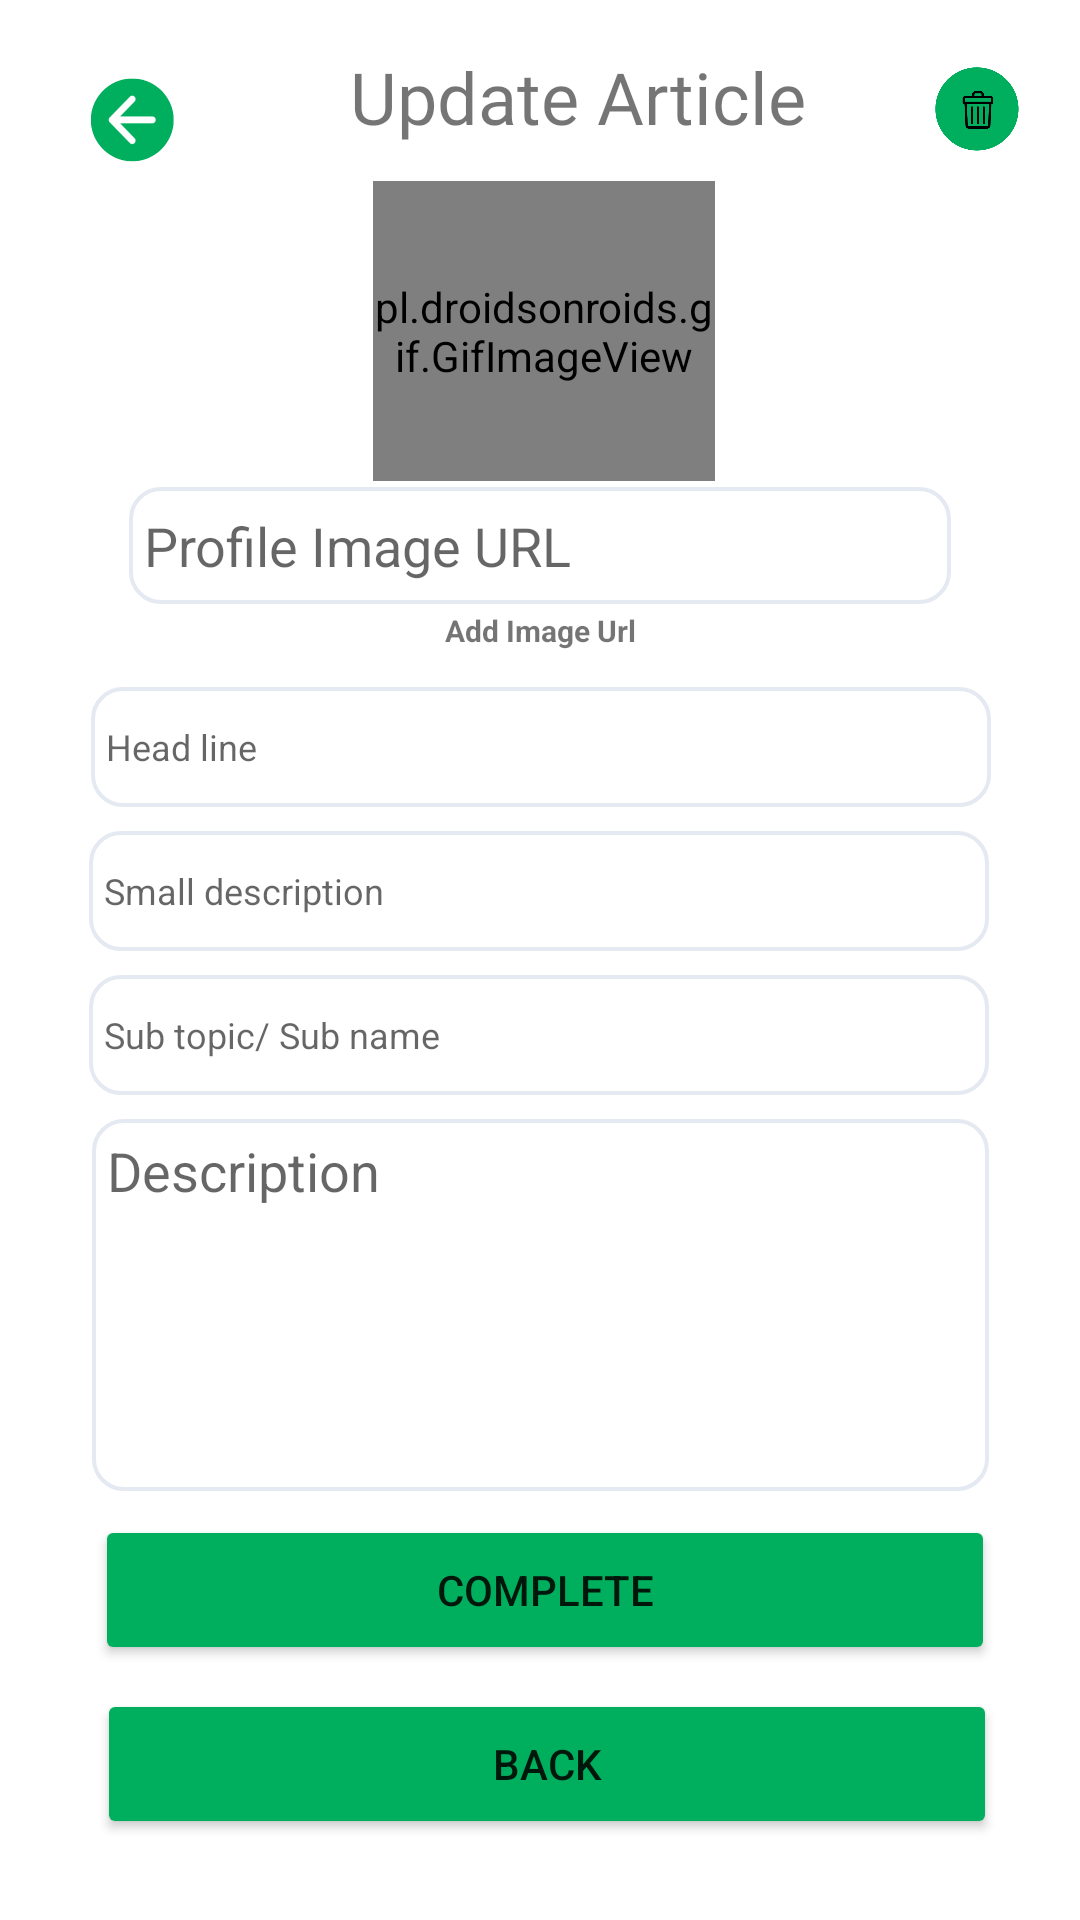

Icons on this 1080*1920 Android screen, each with the point to tap as (x,y):
backbttn: (132,120)
deletebtn: (977,109)
